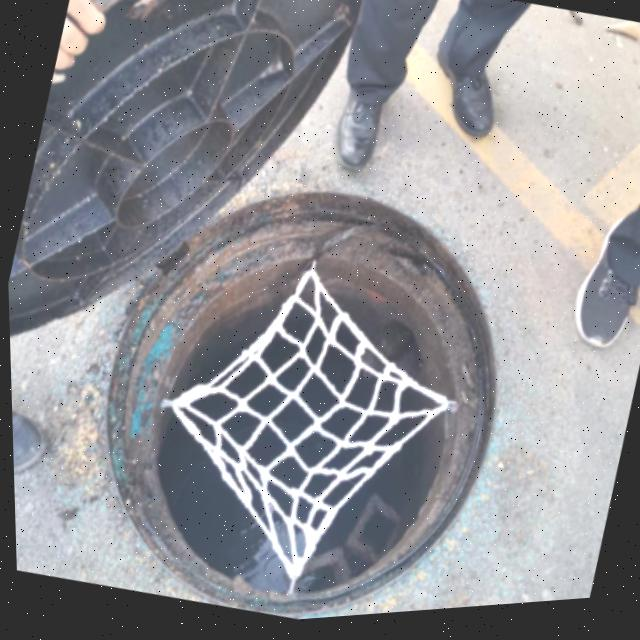manhole: (41, 142, 541, 638)
